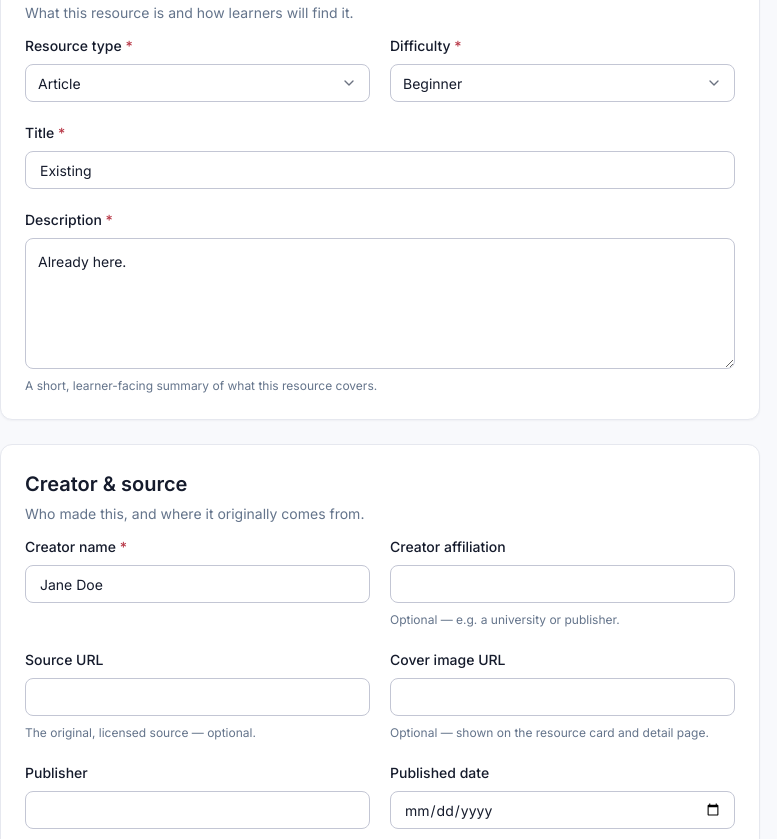
Test: ResourceForm › disables the submit button in edit mode until a field actually changes
Type "!" into the field labelled "Title *".
click(380, 170); type("!")  # box x1=38 y1=152 x2=722 y2=188
(page scrolled)
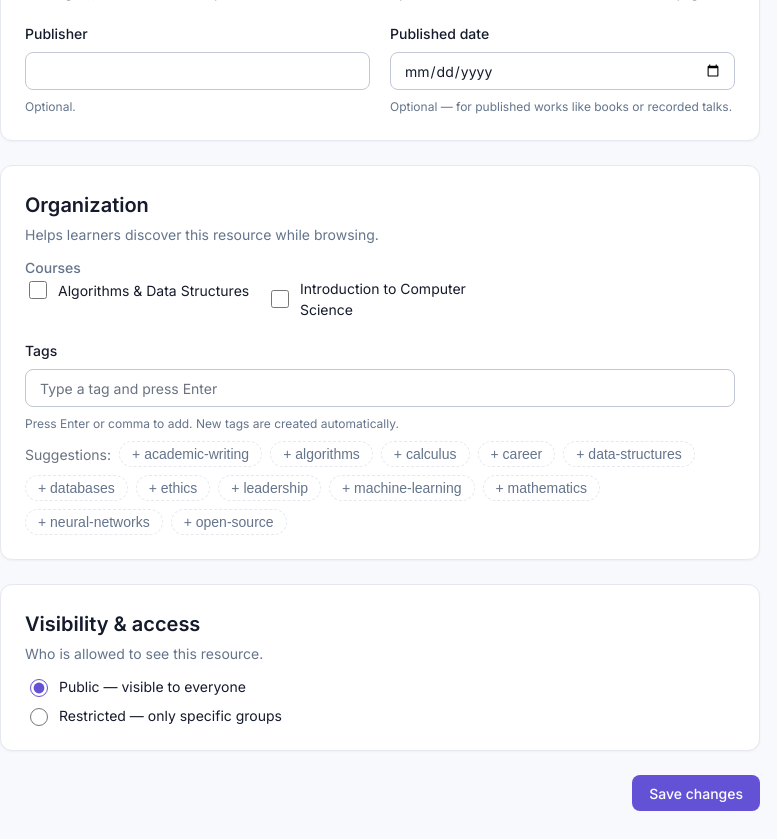
Expected: the button "Save changes" is enabled, x1=632 y1=775 x2=760 y2=811
